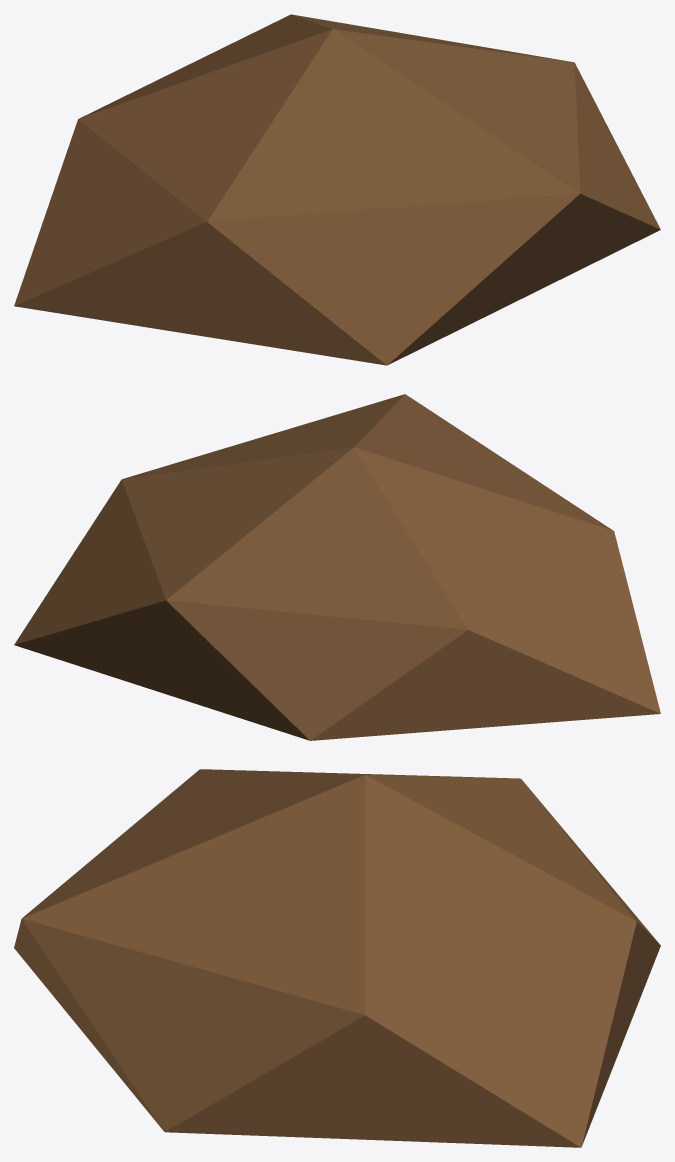
The model's file is HS_LP_Ground_Mound_02.fbx.
3 renders of one model, top to bottom at view 1: azimuth 30°, elevation 25°; view 2: azimuth 150°, elevation 25°; view 3: azimuth 270°, elevation 25°, orthographic. The views are drawn at different scales.
Visible parts, largest first — view 1: HS_LP_Ground_Mound_02; view 2: HS_LP_Ground_Mound_02; view 3: HS_LP_Ground_Mound_02.
Part boxes in pixels (<box>): HS_LP_Ground_Mound_02: <box>14,14,660,365</box>; HS_LP_Ground_Mound_02: <box>14,394,660,740</box>; HS_LP_Ground_Mound_02: <box>14,769,660,1147</box>.
Bounding box in the file's own units: 92.37 × 31.4 × 78.29.
